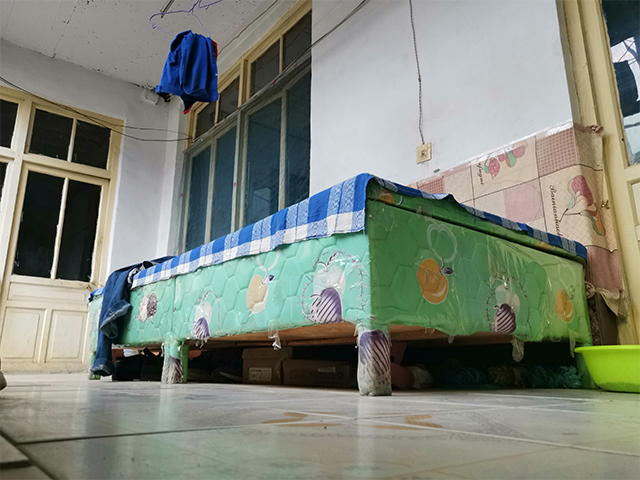bed: (82, 170, 594, 397)
